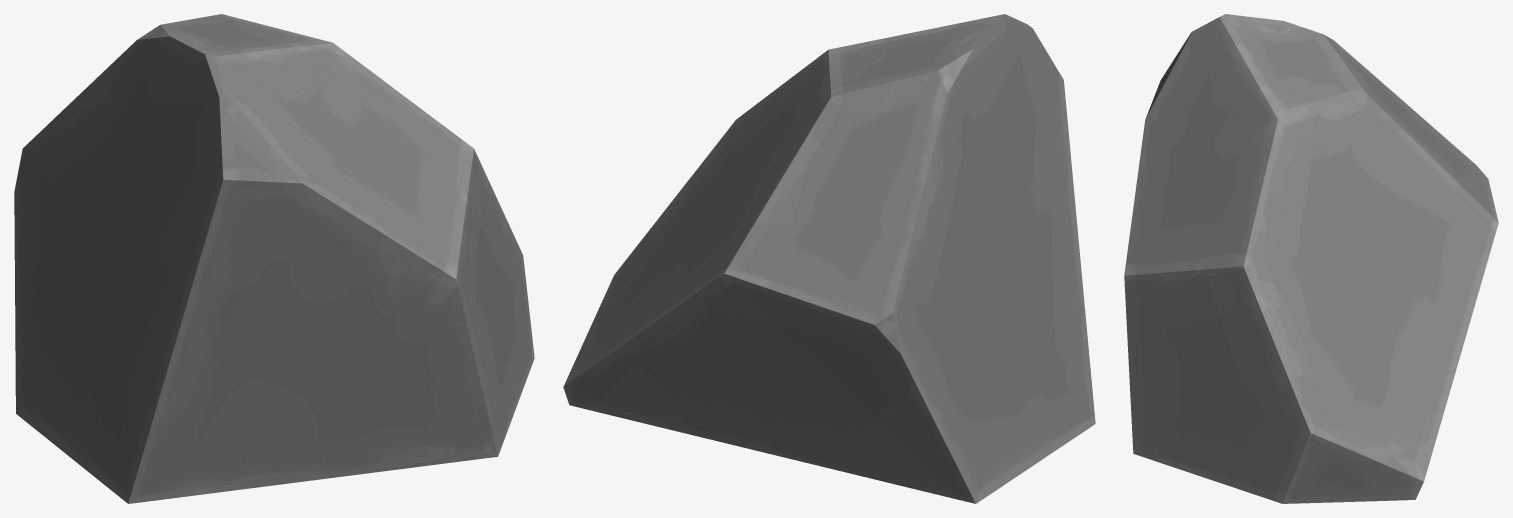
Rendered from rock.glb.
3 views of the same model, side by side, from view 1: azimuth 30°, elevation 25°; view 2: azimuth 150°, elevation 25°; view 3: azimuth 270°, elevation 25° (orthographic). The views are drawn at different scales.
Parts seen in each view (by area): view 1: rock; view 2: rock; view 3: rock.
Part boxes in pixels (bbox=[...]): rock: bbox=[14, 14, 534, 503]; rock: bbox=[563, 14, 1095, 503]; rock: bbox=[1124, 14, 1498, 503].
Size of the model in its own units: 0.299 by 0.2645 by 0.2587.
Materials: 1 (1 with a texture image).
